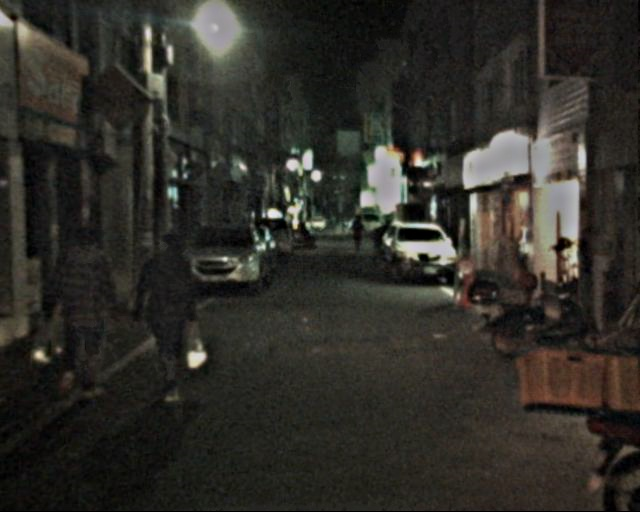person: (135, 227, 205, 402), (49, 224, 120, 394), (346, 214, 363, 254)
